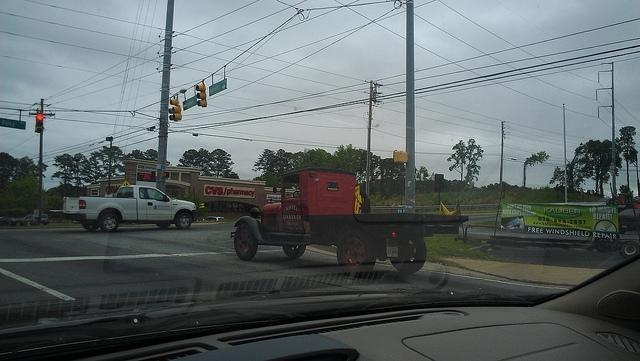car: (12, 214, 48, 227), (203, 216, 224, 222)
truck: (230, 169, 465, 278), (62, 182, 197, 232)
